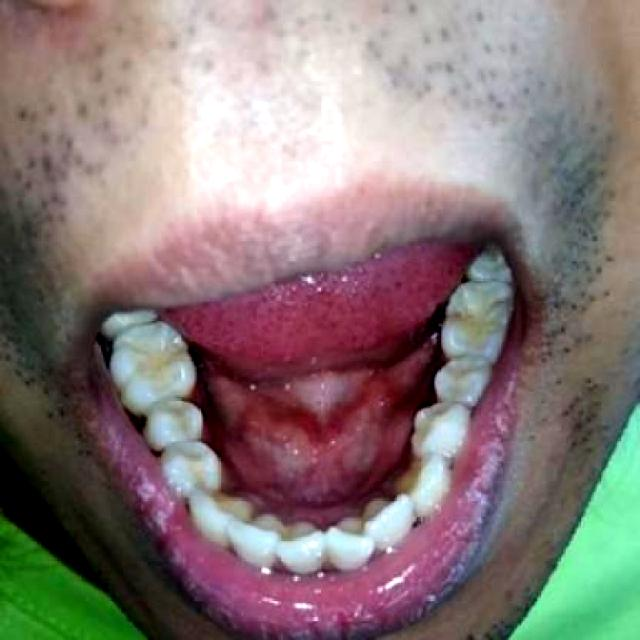Plaque: (482, 285, 512, 328), (446, 297, 472, 323)
